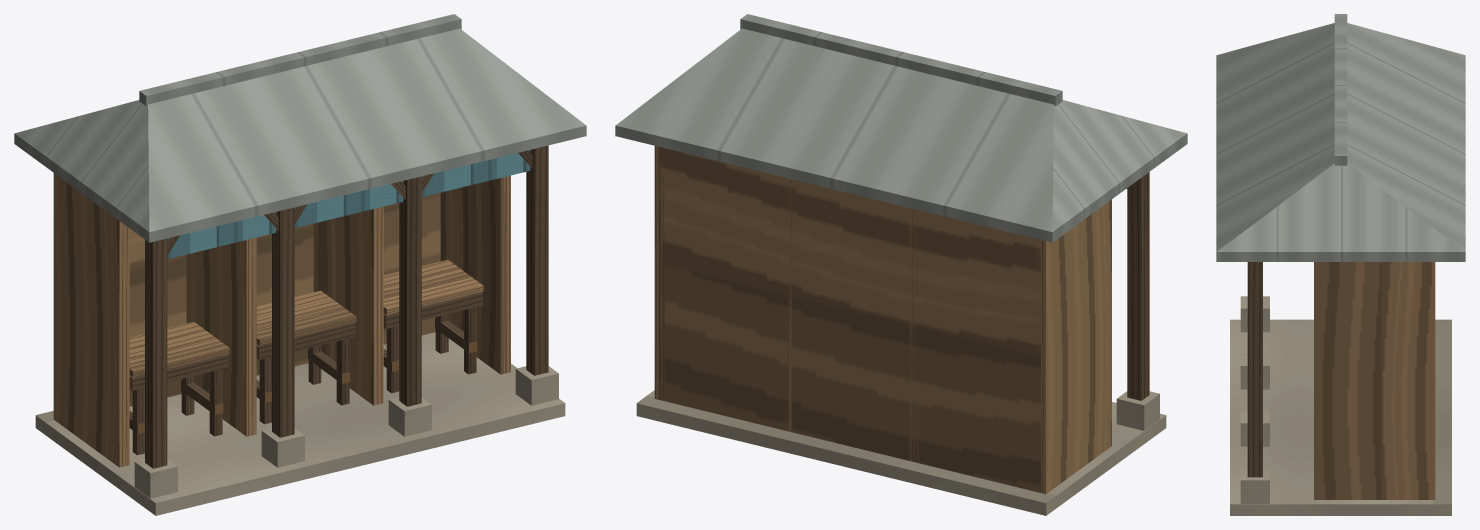
Rendered from sao-paulo.glb.
The picture shows the model from 3 angles, left to right: view 1: azimuth 30°, elevation 25°; view 2: azimuth 150°, elevation 25°; view 3: azimuth 270°, elevation 25°; orthographic projection. The views are drawn at different scales.
Visible parts, largest first — view 1: sao-paulo; view 2: sao-paulo; view 3: sao-paulo.
Boxes of the visible parts, x1,y1,x2,y2 form: sao-paulo: (14, 14, 586, 515); sao-paulo: (615, 14, 1187, 515); sao-paulo: (1216, 14, 1465, 515).
Size of the model in its own units: 3.12 by 2.5 by 1.67.
Materials: 1 (1 with a texture image).
